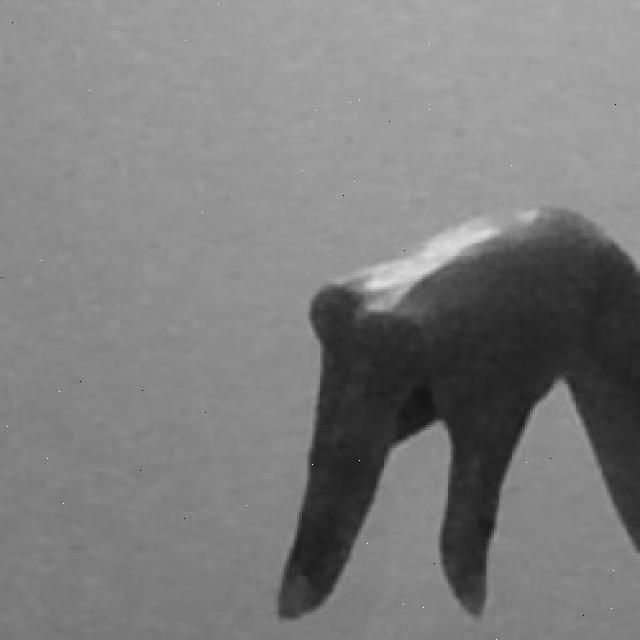Q: (270, 200, 640, 625)
